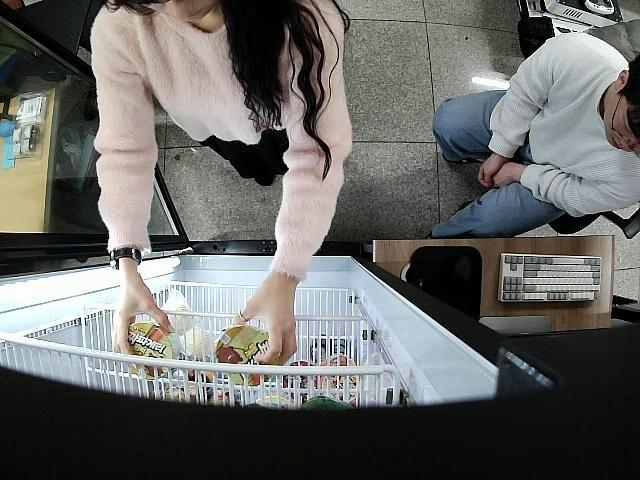04_chapagetti_S: (216, 325, 276, 384), (128, 321, 182, 378)
